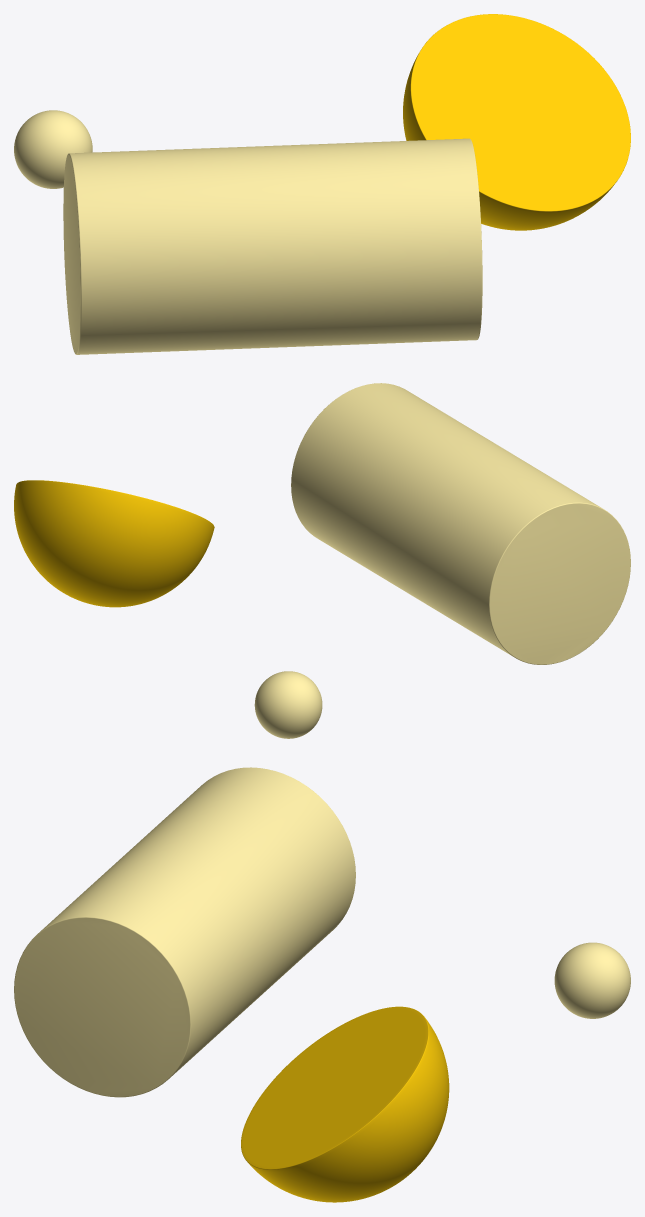
3 views of the same model, one above another, from view 1: azimuth 30°, elevation 25°; view 2: azimuth 150°, elevation 25°; view 3: azimuth 270°, elevation 25° (orthographic). The views are drawn at different scales.
Parts seen in each view (by area): view 1: Extrude_CYLINDER_L_01_1, HALF_SPHERE_03, SPHERE_01; view 2: Extrude_CYLINDER_L_01_1, HALF_SPHERE_03, SPHERE_01; view 3: Extrude_CYLINDER_L_01_1, HALF_SPHERE_03, SPHERE_01.
Boxes of the visible parts, x1,y1,x2,y2 form: Extrude_CYLINDER_L_01_1: (63,138,482,354); HALF_SPHERE_03: (403,14,630,230); SPHERE_01: (14,110,92,188); Extrude_CYLINDER_L_01_1: (291,383,630,664); HALF_SPHERE_03: (14,480,214,607); SPHERE_01: (254,671,322,738); Extrude_CYLINDER_L_01_1: (14,767,355,1097); HALF_SPHERE_03: (241,1006,449,1202); SPHERE_01: (554,942,630,1018).
Size of what is drawn, in the model's own units: 10.94 by 3.36 by 9.69.
